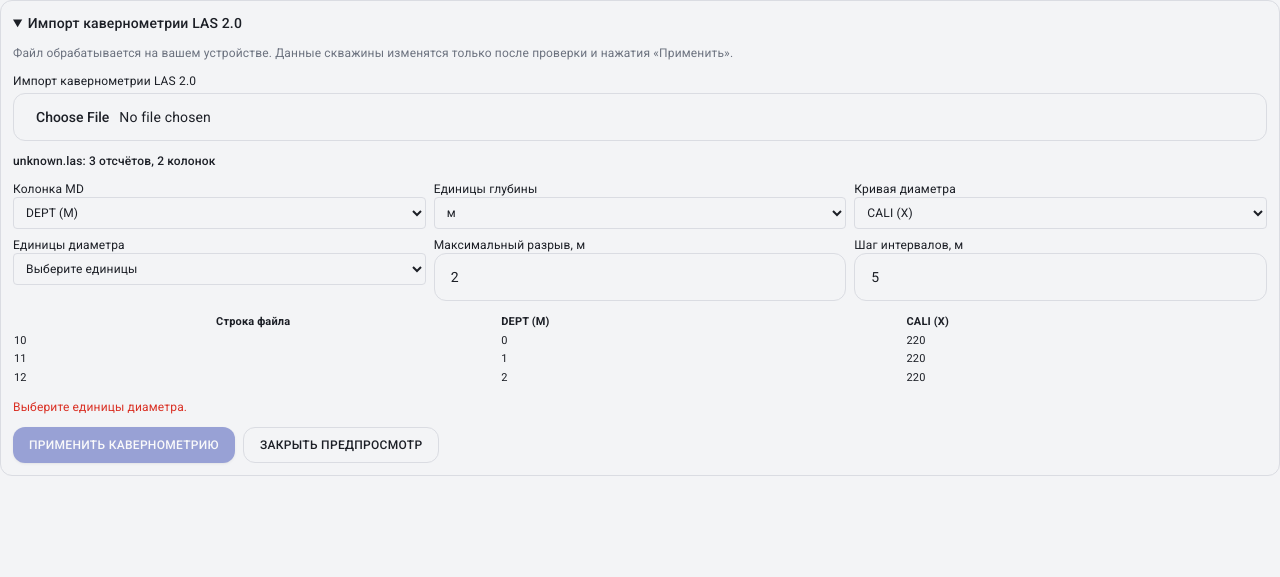
it: local survey preview › does not assume unknown units or apply a corrupt file
Earlier steps of the test are not shown.
Later steps or results of the test are not shown.
Expected: the text "unknown.las: 3 отсчётов, 2 колонок" is shown, [13,154,216,168]
Expected: the button "Применить кавернометрию" is disabled, [13,427,235,463]
Select "мм" in the dropdown labelled "Единицы диаметра" at [219, 269], box [13,253,426,285]
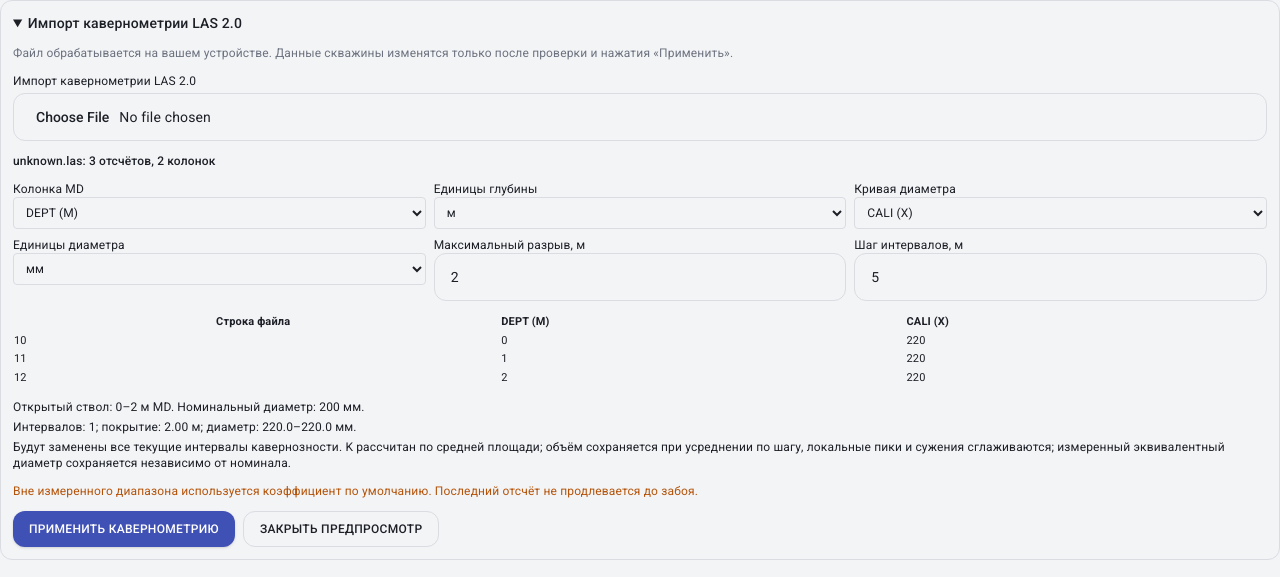
Result: the button "Применить кавернометрию" is enabled at [13,511,235,547]
